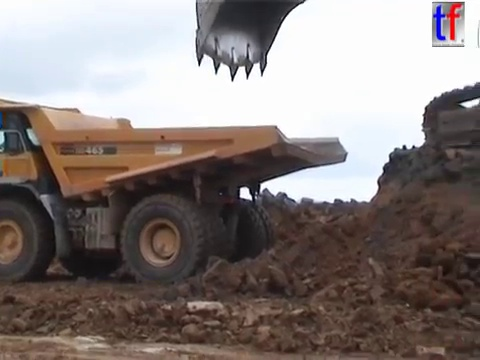excavator: (190, 1, 480, 155)
truck: (1, 95, 351, 287)
